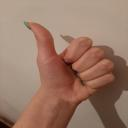ThumbsUp: (20, 19, 117, 111)
